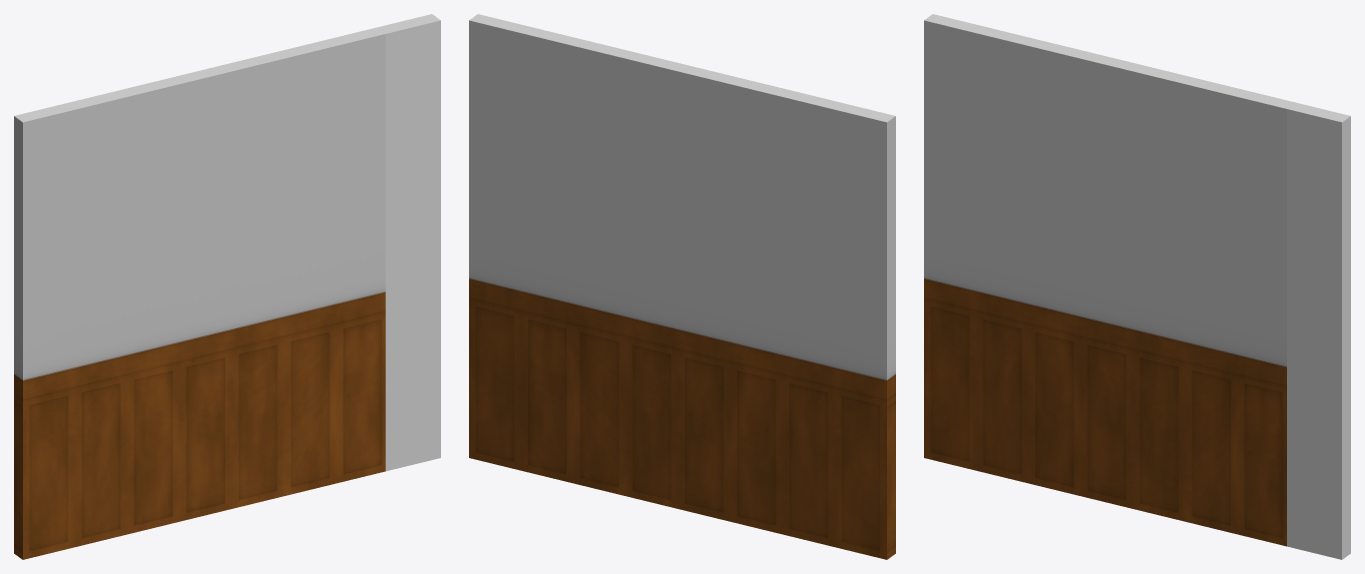
File: WallWBricksOpening.fbx
The picture shows the model from 3 angles, left to right: view 1: azimuth 30°, elevation 25°; view 2: azimuth 150°, elevation 25°; view 3: azimuth 330°, elevation 25°; orthographic projection.
Visible parts, largest first — view 1: WallWBricksEntrance; view 2: WallWBricksEntrance; view 3: WallWBricksEntrance.
Part boxes in pixels (x1,y1,x2,y2): WallWBricksEntrance: (14, 14, 440, 559); WallWBricksEntrance: (469, 14, 895, 559); WallWBricksEntrance: (924, 14, 1350, 559).
Bounding box in the file's own units: 200 × 200 × 7.31.
Materials: 2 (1 with a texture image).
